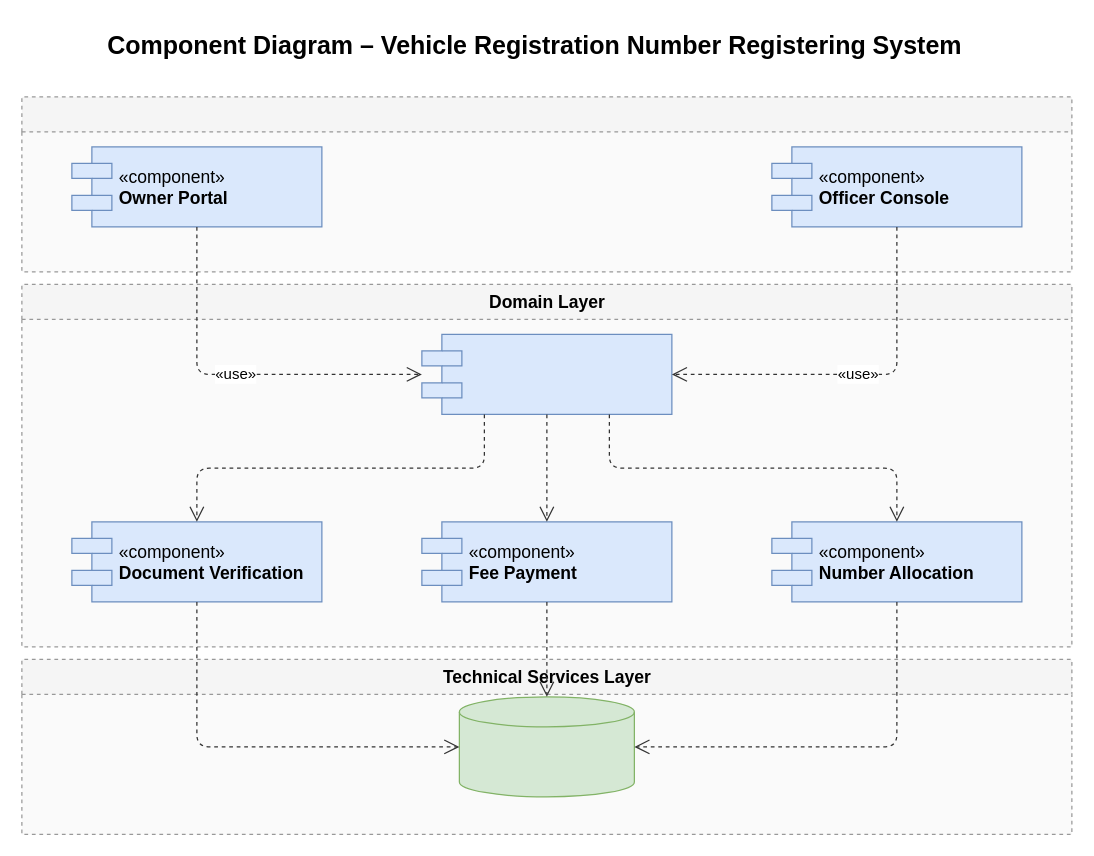
Some shapes in this 1094 by 856 pixel diagram are drawn without their labels. The shapes that lost their labels are listed below. From the top down, each one's box as (x1, y1, x2, y2) in pixels, then its label:
(21, 96, 1072, 272): User Interface Layer
(421, 333, 672, 414): «component» Vehicle Registration System
(458, 696, 634, 797): Vehicle DB
